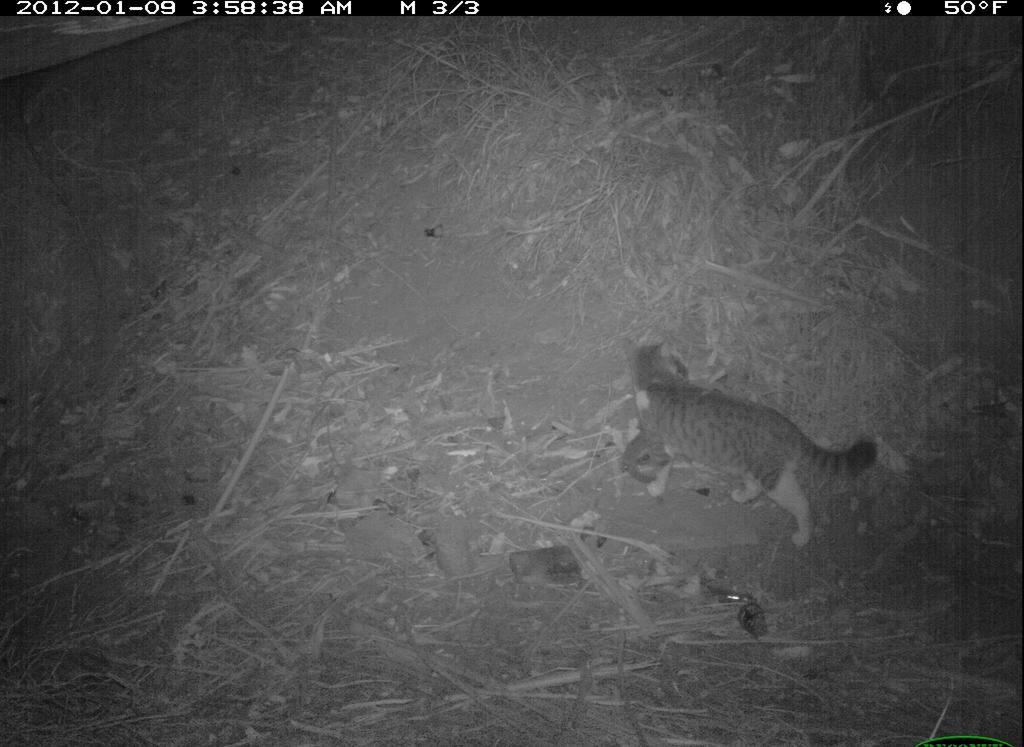cat: (607, 267, 893, 589)
